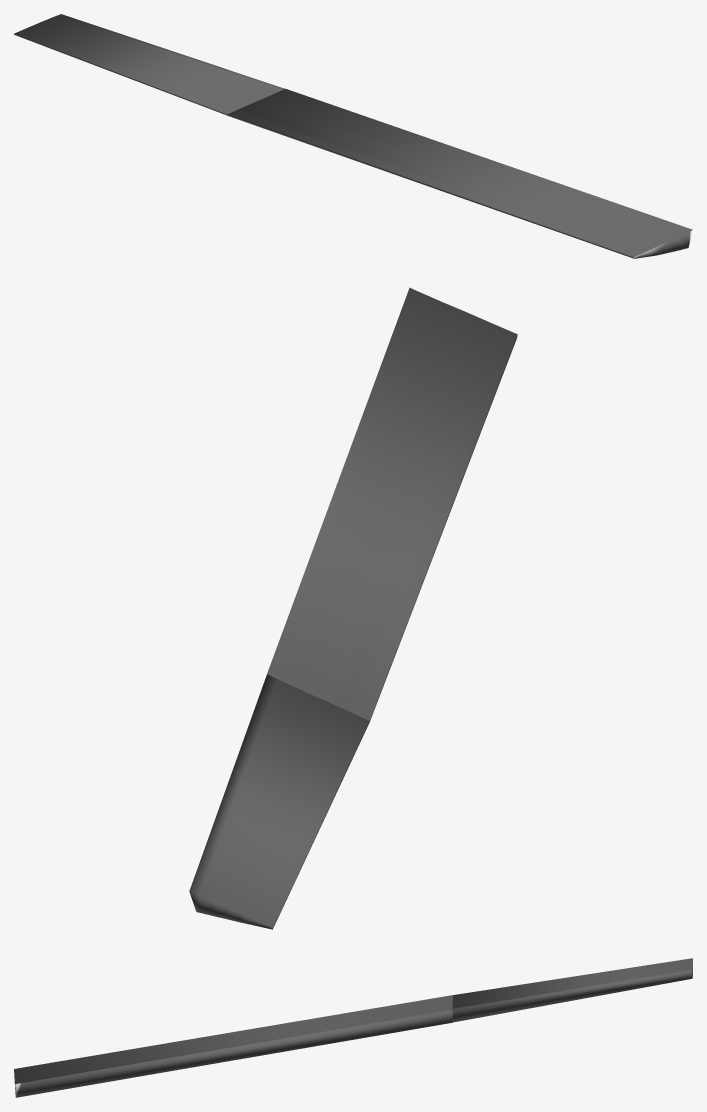
File: skycat_elevon_left.dae
3 views of the same model, one above another, from view 1: azimuth 30°, elevation 25°; view 2: azimuth 150°, elevation 25°; view 3: azimuth 270°, elevation 25° (orthographic). The views are drawn at different scales.
Parts seen in each view (by area): view 1: Elevon_ Inner_L, Elevon_Outer_L; view 2: Elevon_ Inner_L, Elevon_Outer_L; view 3: Elevon_ Inner_L, Elevon_Outer_L.
Part boxes in pixels (x1,y1,x2,y2): Elevon_ Inner_L: (227, 88, 692, 258); Elevon_Outer_L: (14, 14, 284, 115); Elevon_ Inner_L: (267, 287, 517, 722); Elevon_Outer_L: (189, 674, 369, 929); Elevon_ Inner_L: (14, 995, 452, 1097); Elevon_Outer_L: (452, 958, 692, 1022).
Bounding box in the file's own units: 0.2856 × 0.621 × 0.0183.
1 material, 1 textured.
